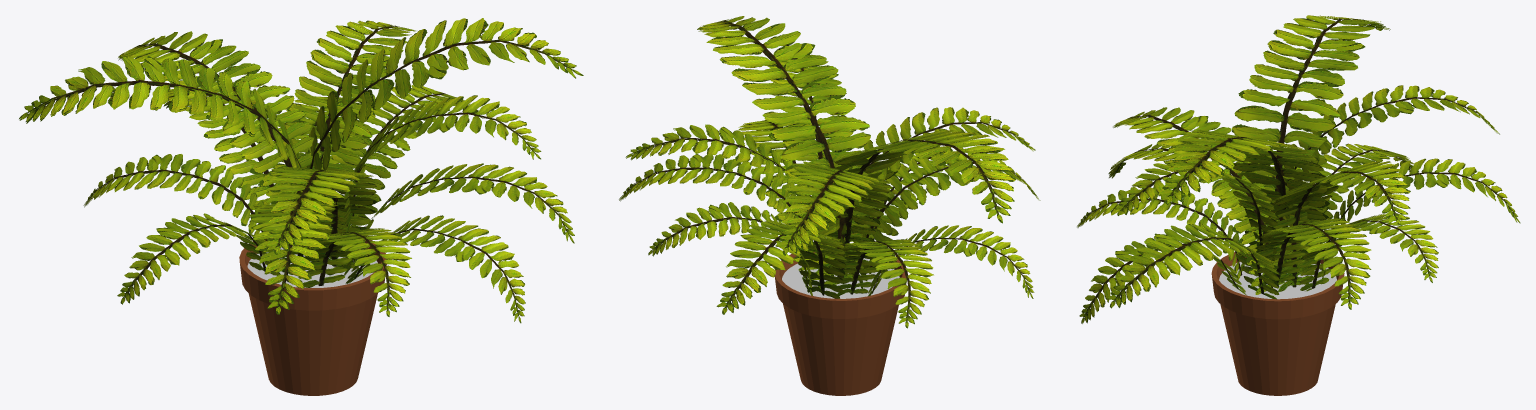
Rendered from boston-fern.obj.
The picture shows the model from 3 angles, left to right: view 1: azimuth 30°, elevation 25°; view 2: azimuth 150°, elevation 25°; view 3: azimuth 270°, elevation 25°; orthographic projection. The views are drawn at different scales.
Visible parts, largest first — view 1: Flowerpot, Leaves.012, Leaves, Leaves.014, Leaves.013, Leaves.010, Leaves.001, Leaves.007, Leaves.011, Leaves.002, Leaves.008, Leaves.003 (+4 smaller); view 2: Leaves.012, Flowerpot, Leaves, Leaves.014, Leaves.006, Leaves.007, Leaves.004, Leaves.013, Leaves.009, Leaves.010, Leaves.008, Leaves.005 (+3 smaller); view 3: Flowerpot, Leaves, Leaves.012, Leaves.003, Leaves.004, Leaves.013, Leaves.010, Leaves.014, Leaves.011, Leaves.006, Leaves.005, Leaves.001 (+3 smaller).
Part boxes in pixels (<box>): Flowerpot: <box>239,240,386,395</box>; Leaves.012: <box>305,18,583,270</box>; Leaves: <box>19,56,315,260</box>; Leaves.014: <box>118,31,323,237</box>; Leaves.013: <box>281,20,418,259</box>; Leaves.010: <box>265,166,377,268</box>; Leaves.001: <box>296,228,411,316</box>; Leaves.007: <box>83,154,273,264</box>; Leaves.011: <box>343,95,541,232</box>; Leaves.002: <box>345,215,525,323</box>; Leaves.008: <box>117,213,280,304</box>; Leaves.003: <box>344,163,574,275</box>; Leaves.012: <box>697,16,880,288</box>; Flowerpot: <box>774,252,907,395</box>; Leaves: <box>812,130,1015,270</box>; Leaves.014: <box>775,161,891,255</box>; Leaves.006: <box>716,220,848,314</box>; Leaves.007: <box>832,239,933,328</box>; Leaves.004: <box>619,154,817,269</box>; Leaves.013: <box>625,124,825,282</box>; Leaves.009: <box>849,147,1040,288</box>; Leaves.010: <box>825,107,1035,276</box>; Leaves.008: <box>868,225,1034,298</box>; Leaves.005: <box>648,202,812,295</box>; Flowerpot: <box>1211,250,1344,395</box>; Leaves: <box>1232,15,1390,270</box>; Leaves.012: <box>1157,129,1329,284</box>; Leaves.003: <box>1106,223,1279,308</box>; Leaves.004: <box>1254,218,1371,309</box>; Leaves.013: <box>1268,161,1410,291</box>; Leaves.010: <box>1113,107,1288,294</box>; Leaves.014: <box>1282,85,1499,228</box>; Leaves.011: <box>1114,160,1278,260</box>; Leaves.006: <box>1321,158,1520,283</box>; Leaves.005: <box>1299,213,1438,291</box>; Leaves.001: <box>1077,187,1244,279</box>.
Bounding box in the file's own units: 64.96 × 44.46 × 60.96.
